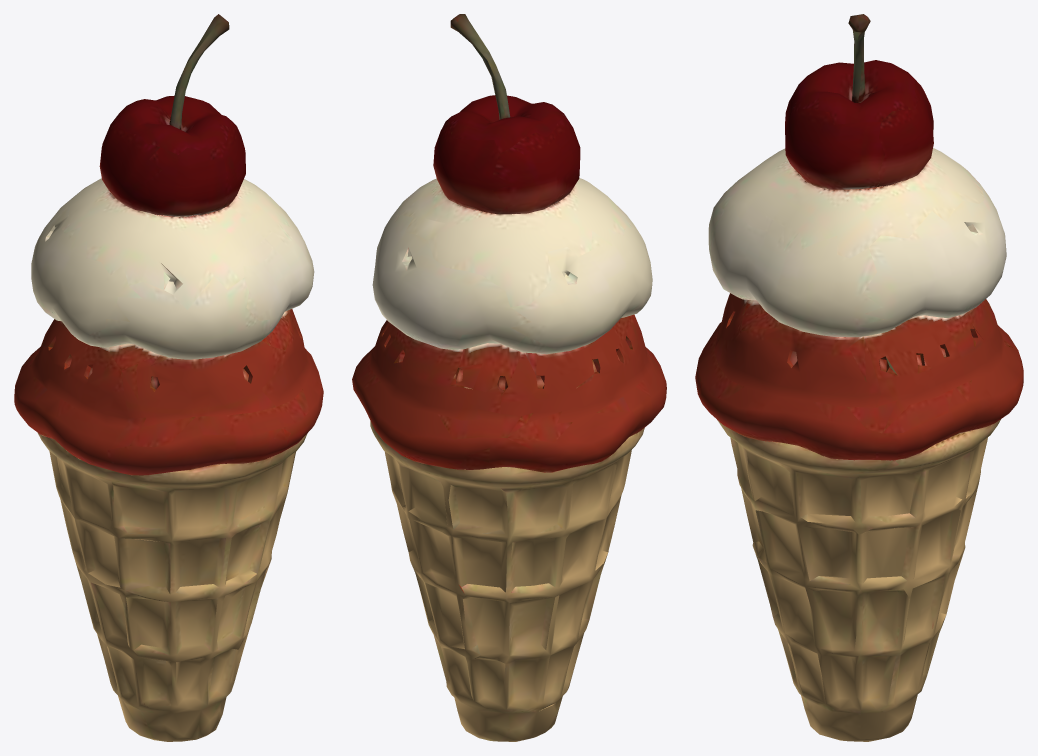
File: helado.glb
3 renders of one model, left to right at view 1: azimuth 30°, elevation 25°; view 2: azimuth 150°, elevation 25°; view 3: azimuth 270°, elevation 25°, orthographic. The views are drawn at different scales.
Visible parts, largest first — view 1: objeto; view 2: objeto; view 3: objeto.
Part boxes in pixels (box(x1,y1,x2,y2)): objeto: box(14, 14, 323, 741); objeto: box(352, 14, 666, 741); objeto: box(695, 14, 1023, 741).
Size of the model in its own units: 0.5648 by 1.4 by 0.5677.
Materials: 1 (1 with a texture image).
